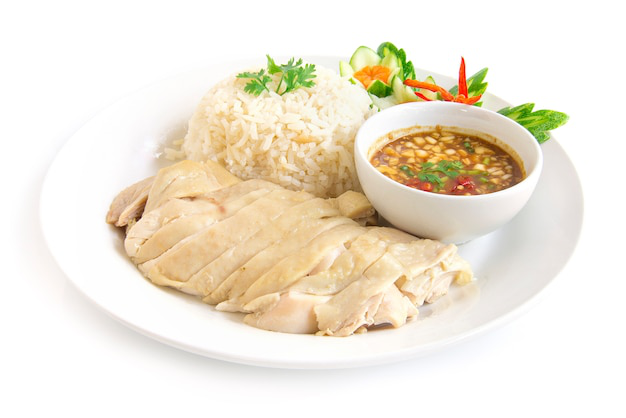Steamed Chicken Rice: (98, 46, 461, 343)
